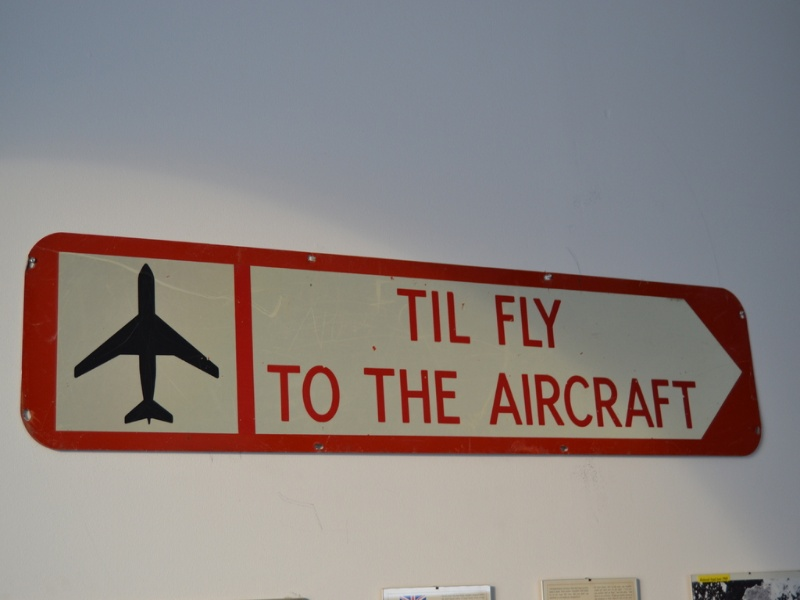aircraft: (37, 245, 756, 468)
